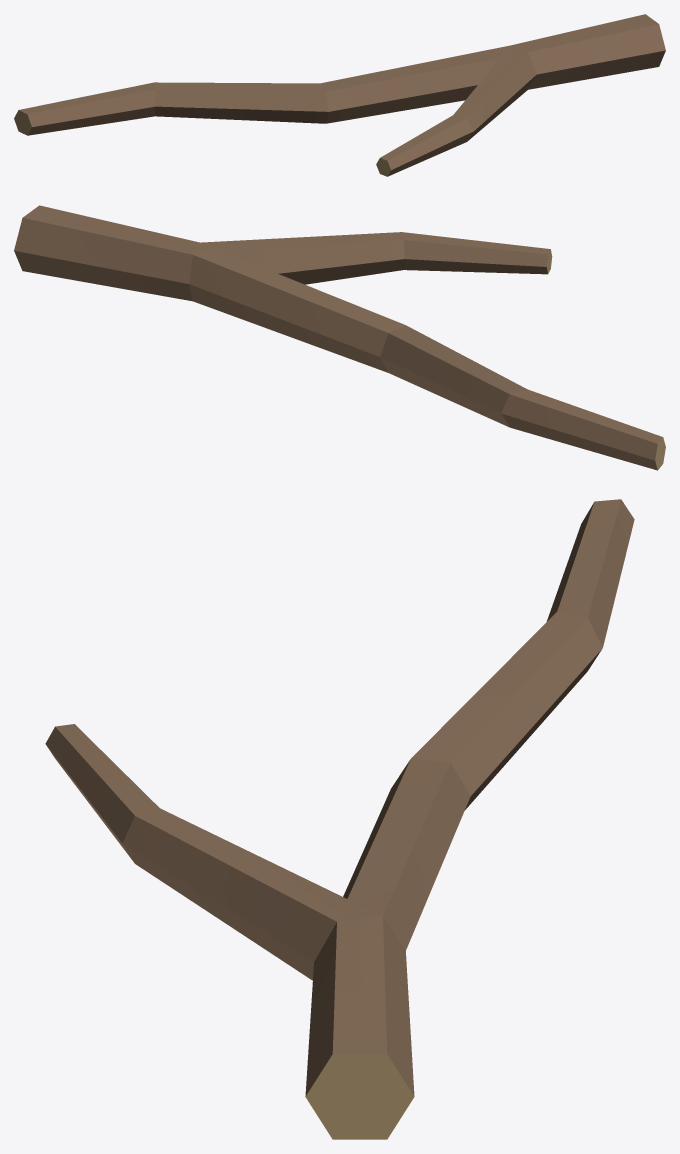
Rendered from Hilly_Prop_Branch_1.obj.
3 views of the same model, one above another, from view 1: azimuth 30°, elevation 25°; view 2: azimuth 150°, elevation 25°; view 3: azimuth 270°, elevation 25° (orthographic). The views are drawn at different scales.
Parts seen in each view (by area): view 1: object1; view 2: object1; view 3: object1.
Boxes of the visible parts, bbox=[...] form: object1: bbox=[14, 14, 665, 176]; object1: bbox=[14, 205, 665, 470]; object1: bbox=[45, 499, 634, 1139].
Bounding box in the file's own units: 1.81 × 0.1381 × 0.8111.
